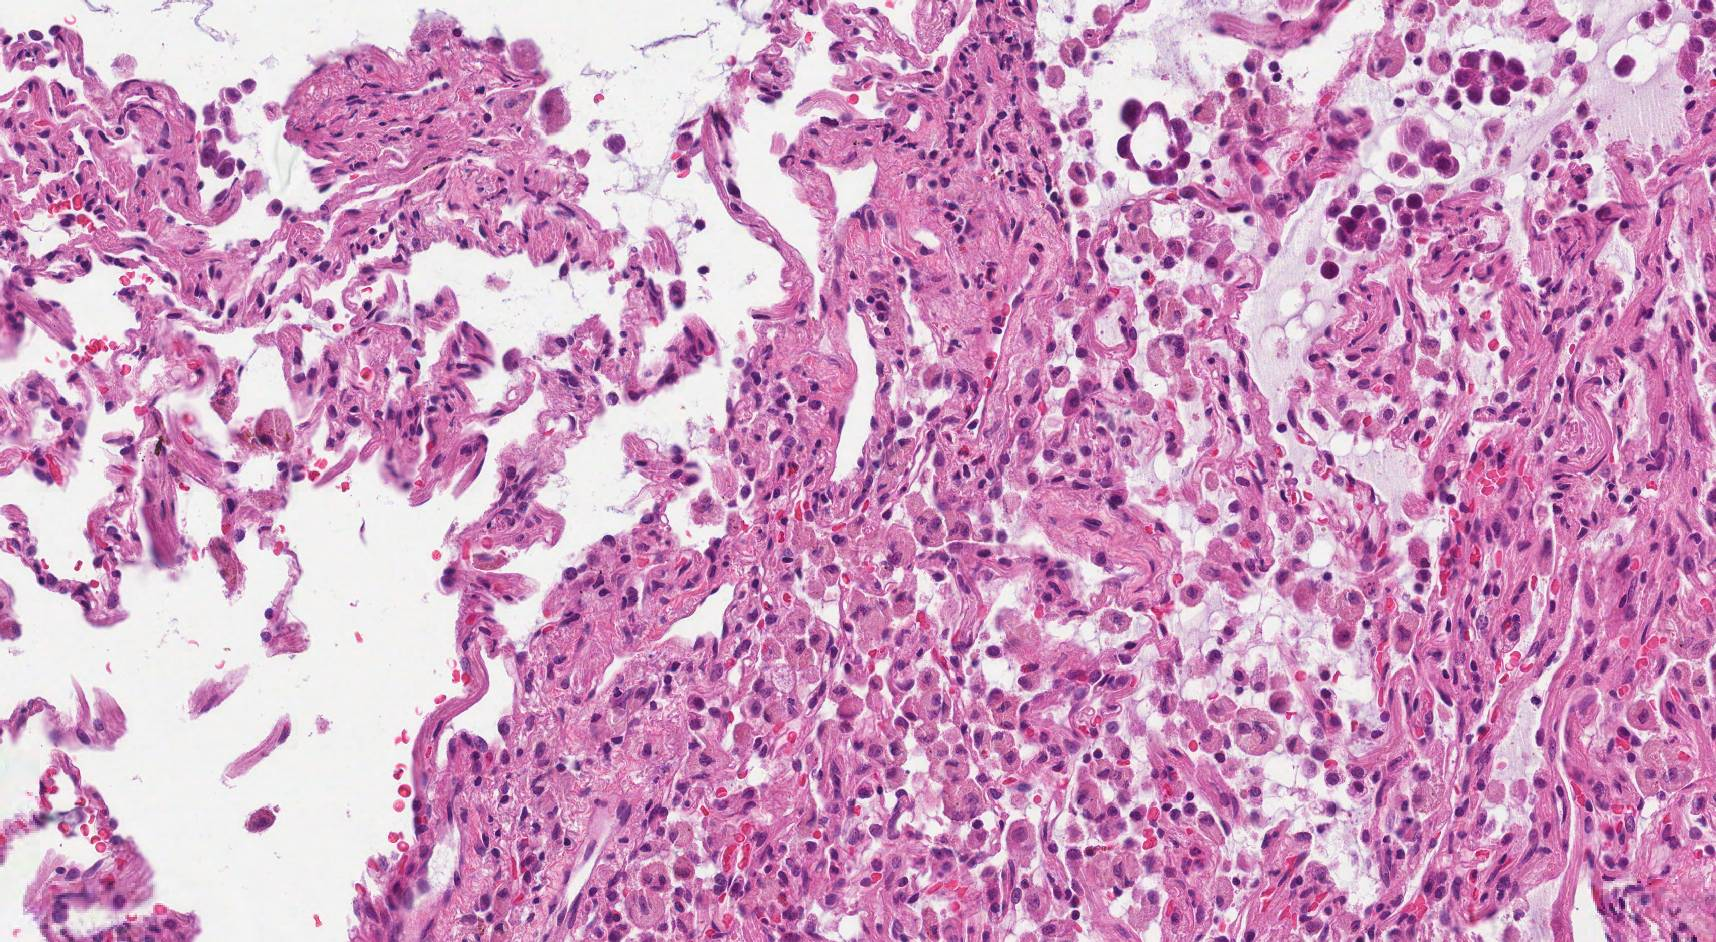stas: (1117, 99, 1195, 184), (198, 78, 257, 181), (1447, 44, 1527, 112), (1332, 199, 1390, 250)
